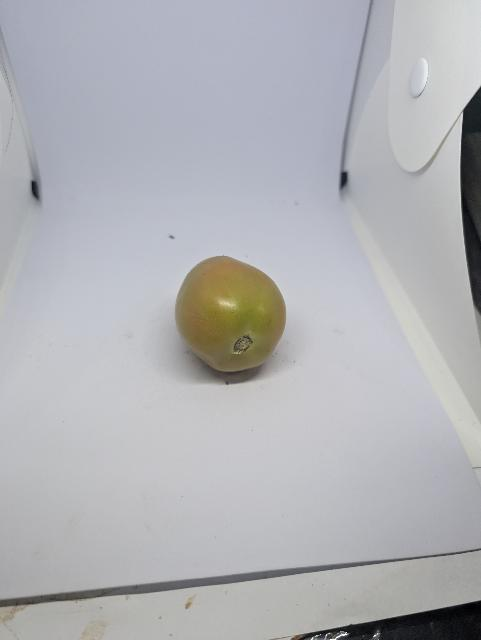breaker: (175, 256, 286, 372)
